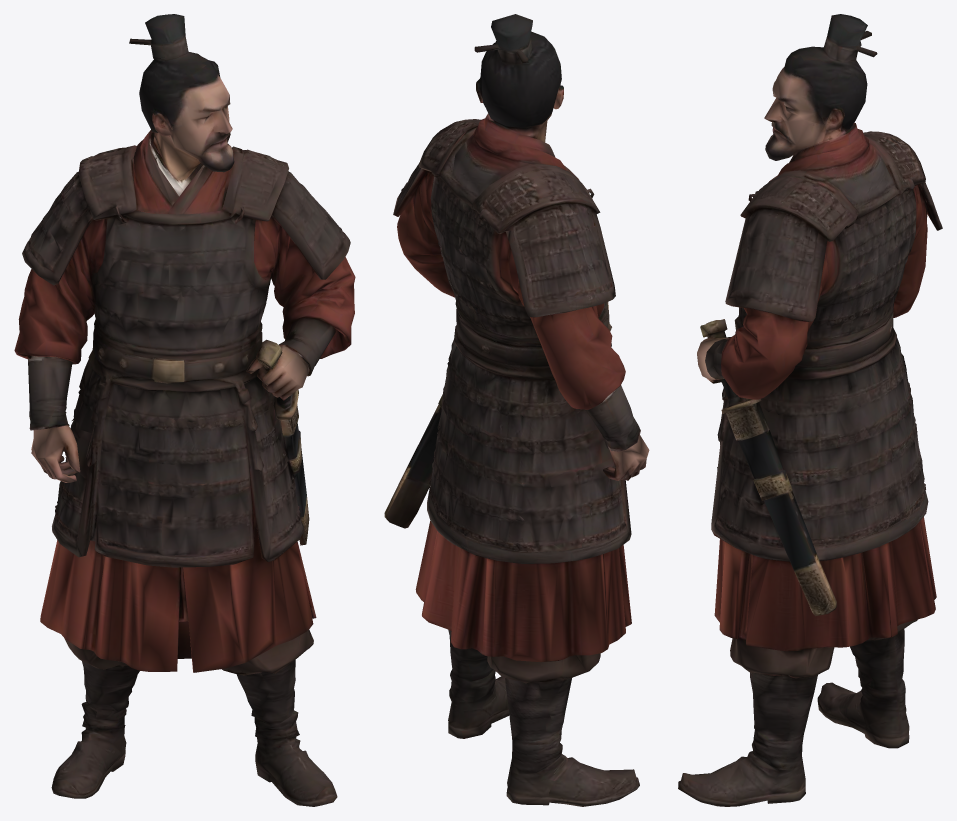
Rendered from guard2_lod0.glb.
3 renders of one model, left to right at view 1: azimuth 30°, elevation 25°; view 2: azimuth 150°, elevation 25°; view 3: azimuth 270°, elevation 25°, orthographic.
Parts seen in each view (by area): view 1: node_0; view 2: node_0; view 3: node_0.
Boxes of the visible parts, <box> form: node_0: <box>14,14,355,806</box>; node_0: <box>384,14,649,806</box>; node_0: <box>678,14,942,806</box>.
Size of the model in its own units: 0.4417 by 1.13 by 0.3673.
Materials: 1 (1 with a texture image).
